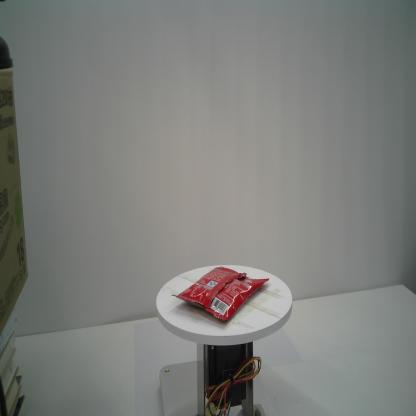Instant Drink: (170, 264, 271, 323)
